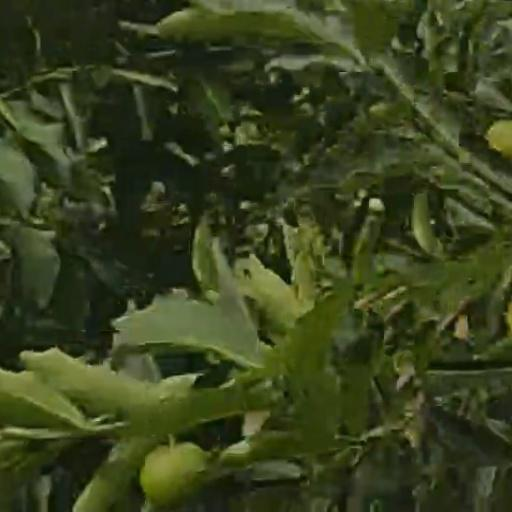acerola_verde: (141, 443, 206, 503)
